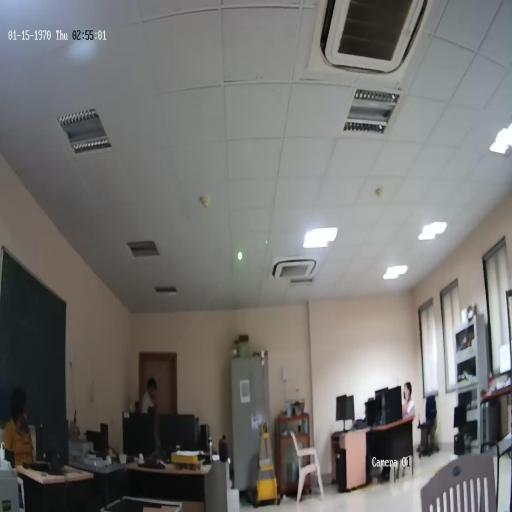laser: (236, 249, 244, 264)
